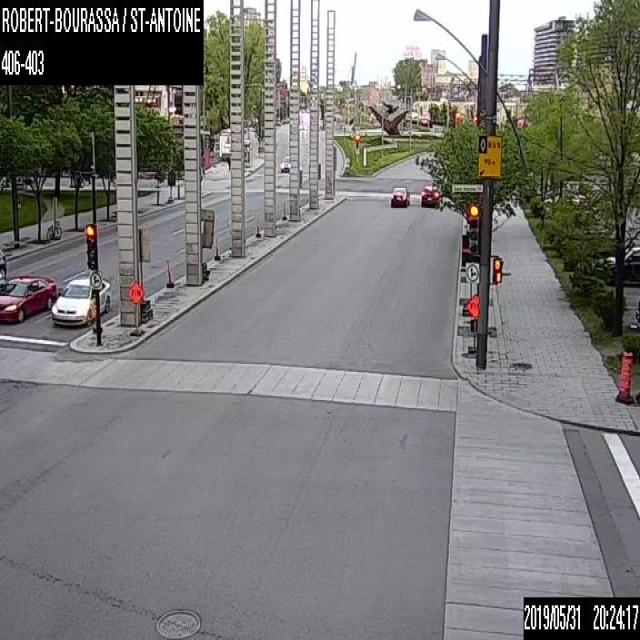construction: (614, 348, 634, 405), (126, 281, 144, 336), (465, 293, 480, 355), (138, 226, 150, 301), (200, 208, 214, 262), (50, 195, 60, 239)
vehicle: (50, 275, 110, 326), (0, 273, 56, 322), (607, 244, 639, 281), (390, 184, 409, 207), (421, 184, 438, 207), (279, 155, 290, 172)
